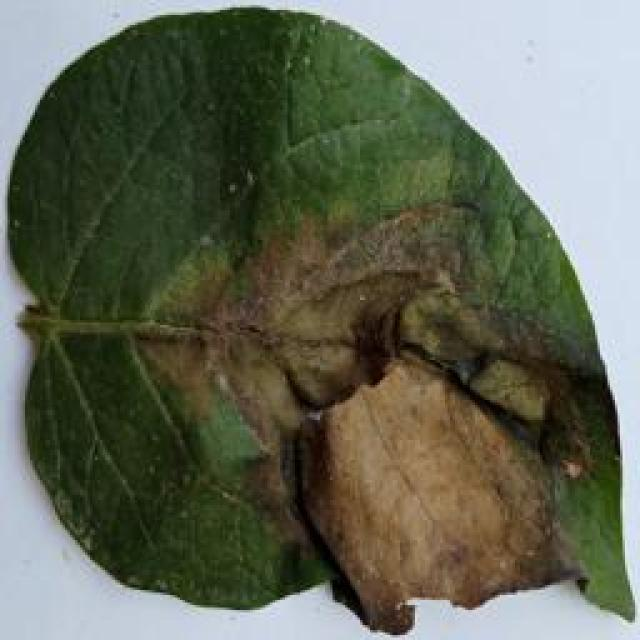Potato_Late_Blight: (7, 8, 620, 628)
